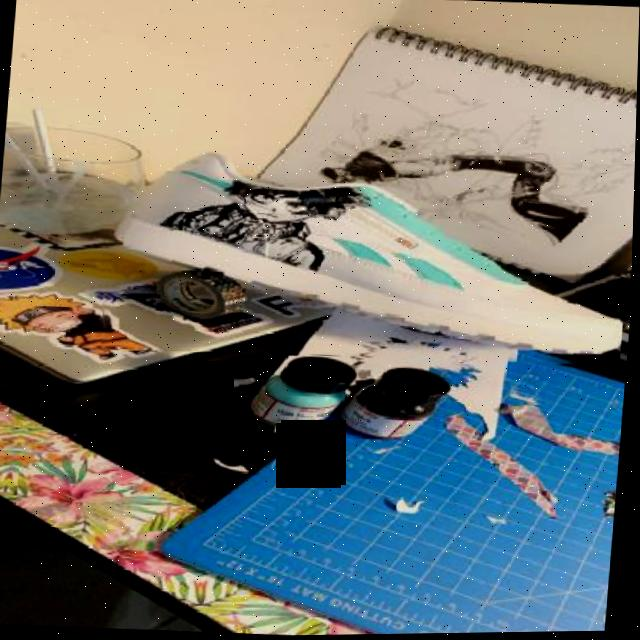shoe: (93, 132, 637, 377)
